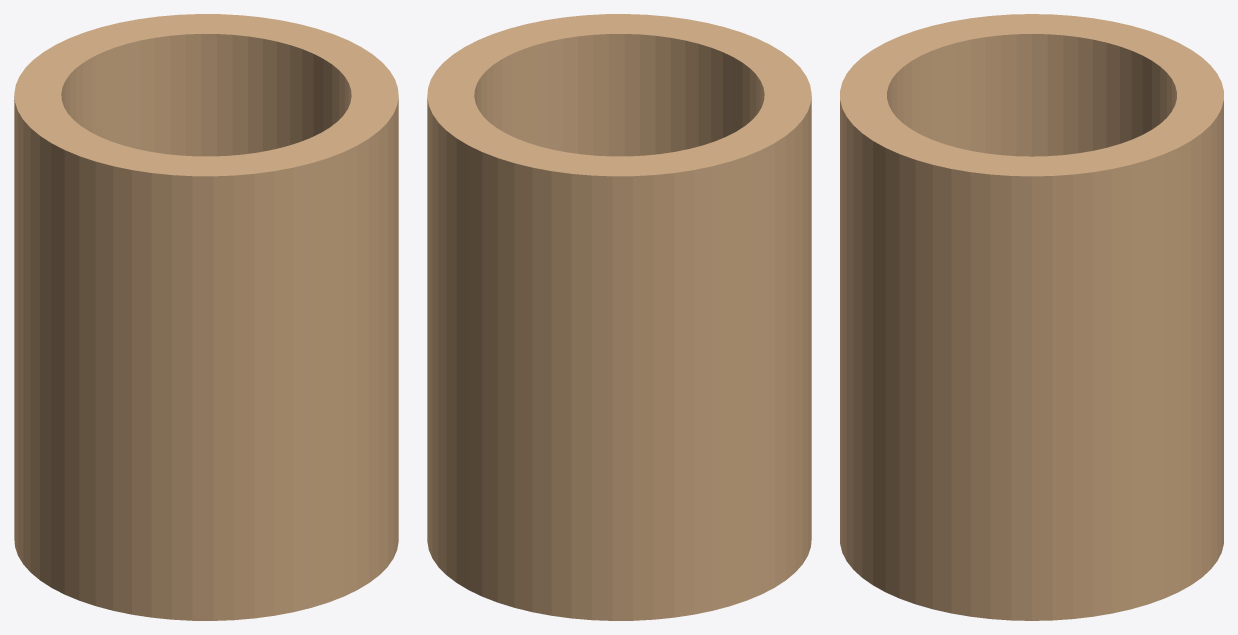
File: starter-solenoid-hold-winding.glb
The picture shows the model from 3 angles, left to right: view 1: azimuth 30°, elevation 25°; view 2: azimuth 150°, elevation 25°; view 3: azimuth 270°, elevation 25°; orthographic projection.
Parts seen in each view (by area): view 1: world; view 2: world; view 3: world.
Boxes of the visible parts, left/top/right/bottom form: world: left=14, top=14, right=398, bottom=620; world: left=427, top=14, right=811, bottom=620; world: left=840, top=14, right=1223, bottom=620.
Bounding box in the file's own units: 0.0384 × 0.049 × 0.0383.
